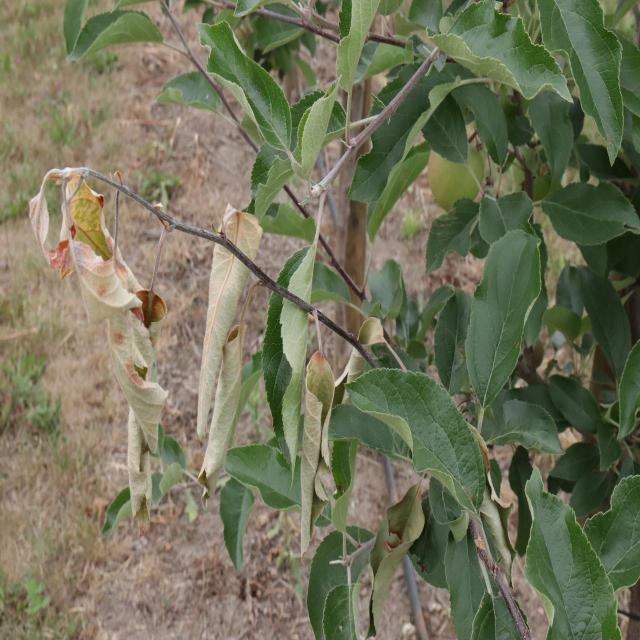-FireBlight-: (42, 163, 166, 526)
